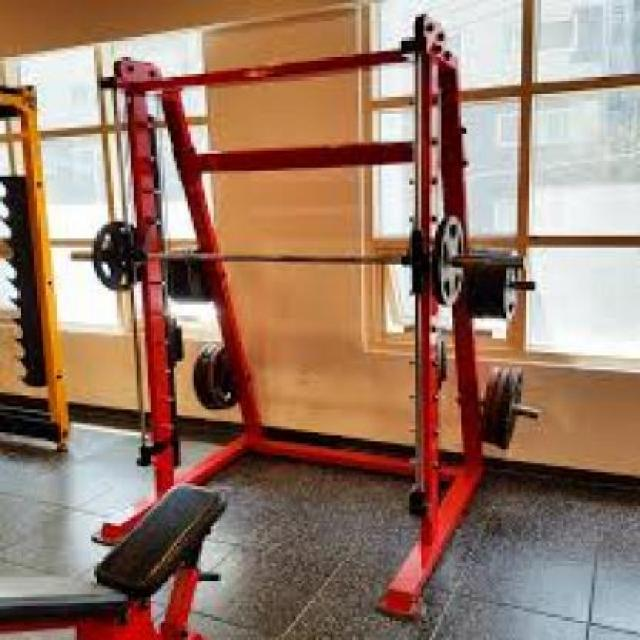smith machine: (89, 14, 542, 552)
